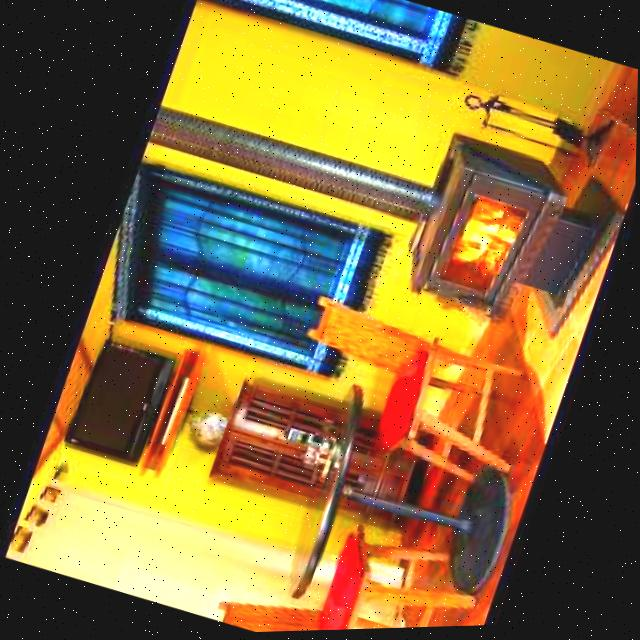Fire: (440, 193, 527, 301)
